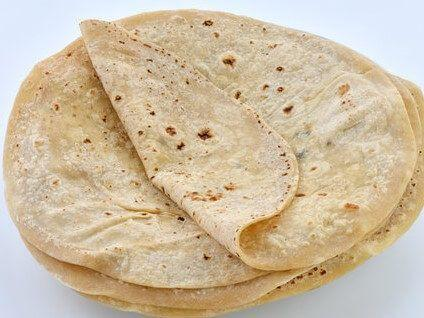roti phulka: (0, 9, 423, 307)
